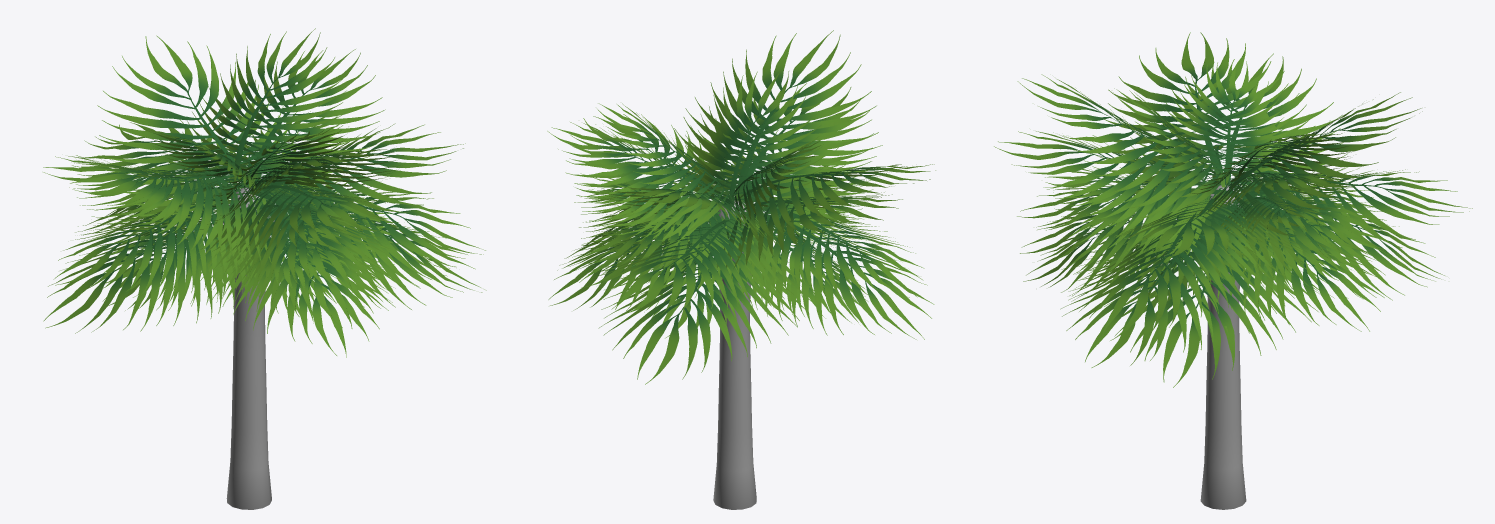
The model's file is StraightPalm.fbx.
3 renders of one model, left to right at view 1: azimuth 30°, elevation 25°; view 2: azimuth 150°, elevation 25°; view 3: azimuth 270°, elevation 25°, orthographic. The views are drawn at different scales.
Visible parts, largest first — view 1: PalmLeafOriginal49, Straight; view 2: PalmLeafOriginal49, Straight; view 3: PalmLeafOriginal49, Straight.
Boxes of the visible parts, <box> form: PalmLeafOriginal49: <box>43,28,486,357</box>; Straight: <box>223,187,274,509</box>; PalmLeafOriginal49: <box>547,30,935,384</box>; Straight: <box>713,200,756,509</box>; PalmLeafOriginal49: <box>994,32,1472,387</box>; Straight: <box>1200,185,1246,509</box>.
Size of the model in its own units: 63.84 by 62.77 by 65.69.
